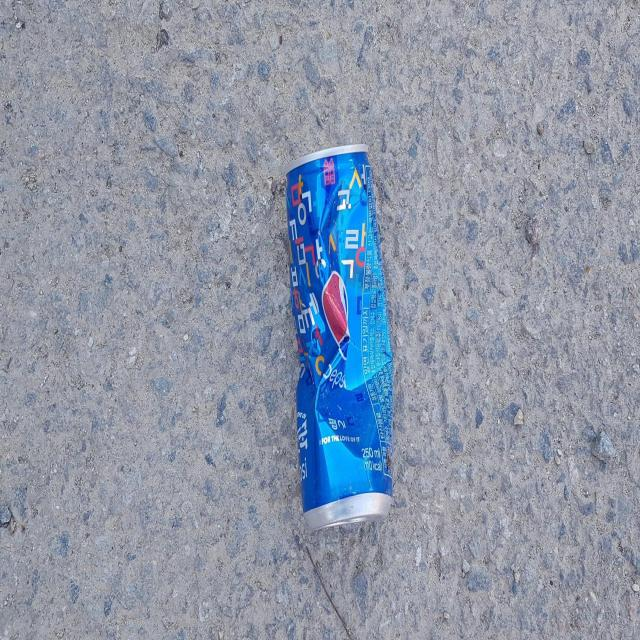can: (286, 144, 393, 530)
